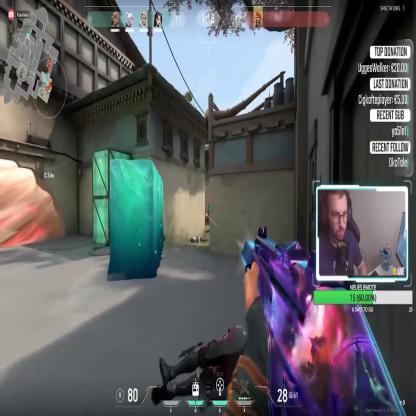enemy: (206, 203, 212, 225)
enemy_head: (208, 202, 209, 206)
